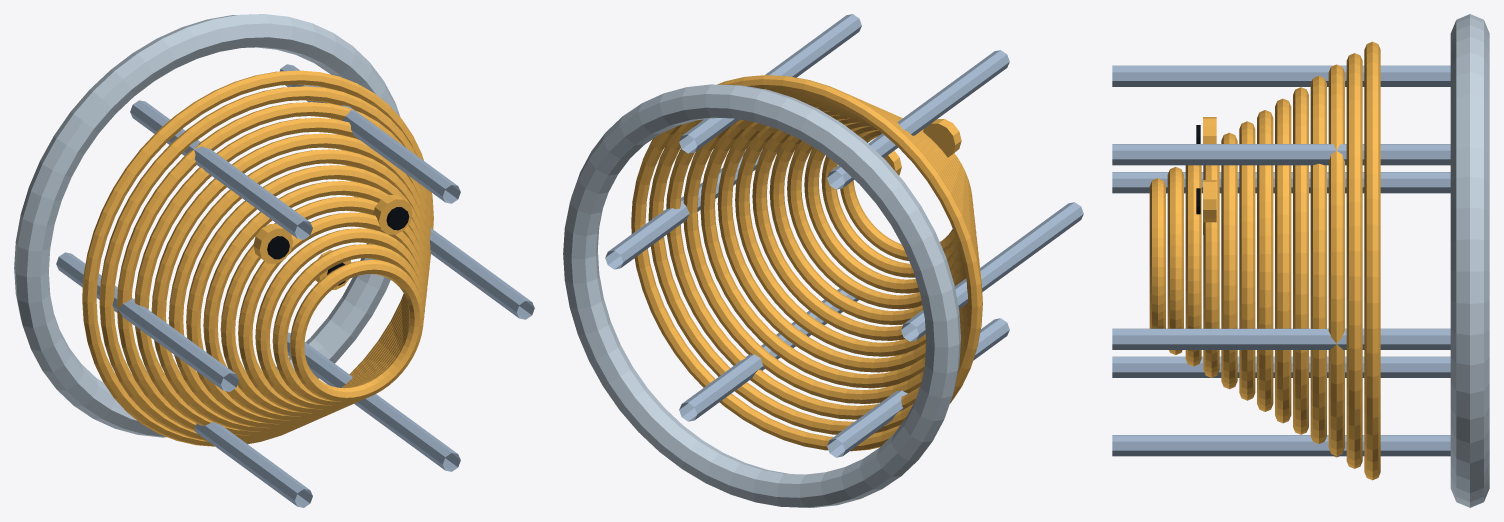
The model's file is 26_L91_XRayConcentratorOpticsC.fbx.
The picture shows the model from 3 angles, left to right: view 1: azimuth 30°, elevation 25°; view 2: azimuth 150°, elevation 25°; view 3: azimuth 270°, elevation 25°; orthographic projection. The views are drawn at different scales.
Visible parts, largest first — view 1: L91_XRayConcentratorOpticsC_Part_0000, L91_XRayConcentratorOpticsC, L91_XRayConcentratorOpticsC_Part_0001, L91_XRayConcentratorOpticsC_Part_0003, L91_XRayConcentratorOpticsC_Part_0007; view 2: L91_XRayConcentratorOpticsC_Part_0000, L91_XRayConcentratorOpticsC, L91_XRayConcentratorOpticsC_Part_0001, L91_XRayConcentratorOpticsC_Part_0003; view 3: L91_XRayConcentratorOpticsC_Part_0000, L91_XRayConcentratorOpticsC_Part_0001, L91_XRayConcentratorOpticsC, L91_XRayConcentratorOpticsC_Part_0007.
Boxes of the visible parts, x1=… form: L91_XRayConcentratorOpticsC_Part_0000: x1=82, y1=70, x2=433, y2=446; L91_XRayConcentratorOpticsC: x1=14, y1=14, x2=400, y2=437; L91_XRayConcentratorOpticsC_Part_0001: x1=56, y1=64, x2=534, y2=507; L91_XRayConcentratorOpticsC_Part_0003: x1=253, y1=224, x2=293, y2=263; L91_XRayConcentratorOpticsC_Part_0007: x1=373, y1=195, x2=412, y2=234; L91_XRayConcentratorOpticsC_Part_0000: x1=631, y1=75, x2=982, y2=451; L91_XRayConcentratorOpticsC: x1=563, y1=84, x2=960, y2=507; L91_XRayConcentratorOpticsC_Part_0001: x1=605, y1=14, x2=1083, y2=457; L91_XRayConcentratorOpticsC_Part_0003: x1=923, y1=119, x2=961, y2=157; L91_XRayConcentratorOpticsC_Part_0000: x1=1149, y1=41, x2=1380, y2=480; L91_XRayConcentratorOpticsC_Part_0001: x1=1112, y1=65, x2=1450, y2=456; L91_XRayConcentratorOpticsC: x1=1450, y1=14, x2=1489, y2=507; L91_XRayConcentratorOpticsC_Part_0007: x1=1203, y1=180, x2=1216, y2=222.
Bounding box in the file's own units: 152 × 152 × 116.
